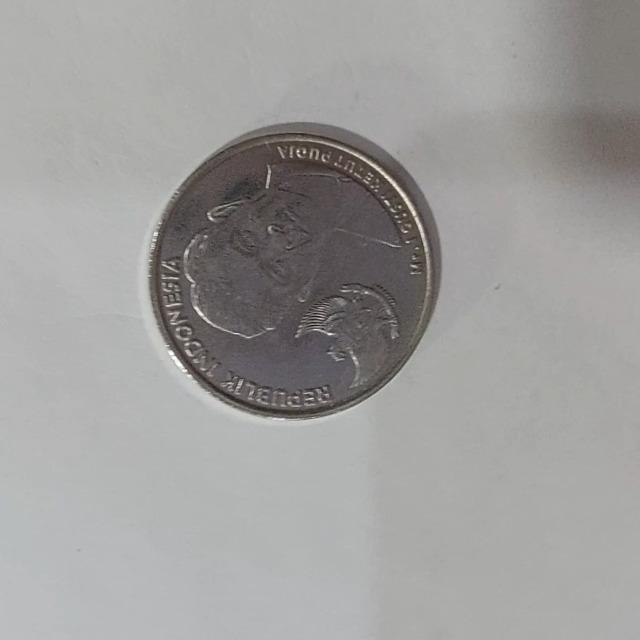Rp100: (146, 121, 442, 421)
